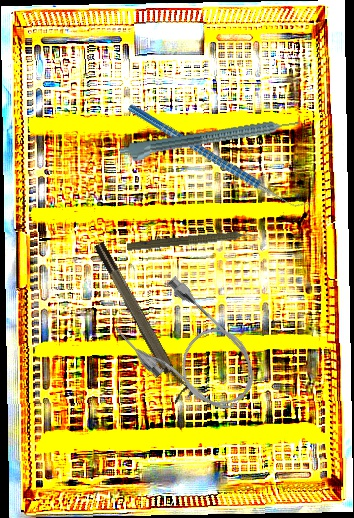Cannula: (108, 269, 273, 431)
Chopper: (126, 56, 314, 257)
Fixation Ring: (90, 236, 197, 405)
Handpiece: (118, 115, 302, 167), (126, 227, 261, 256)
